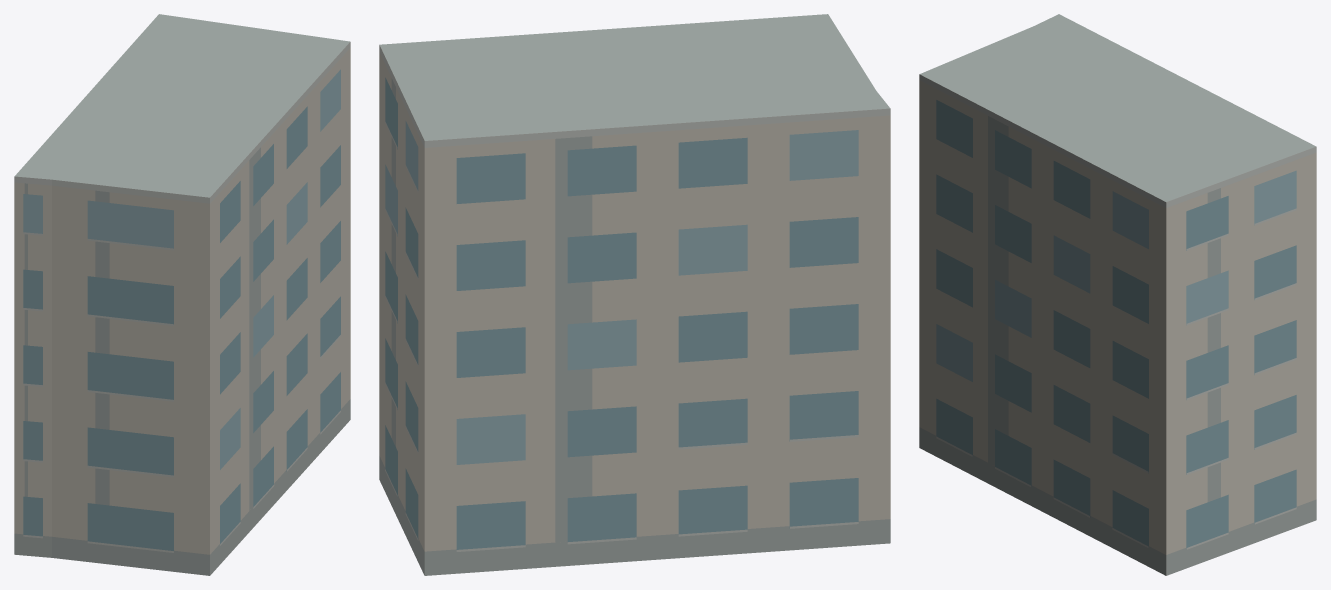
The model's file is survey-upis-33024930.glb.
3 renders of one model, left to right at view 1: azimuth 30°, elevation 25°; view 2: azimuth 150°, elevation 25°; view 3: azimuth 270°, elevation 25°, orthographic. The views are drawn at different scales.
Visible parts, largest first — view 1: survey-upis-33024930.tmp; view 2: survey-upis-33024930.tmp; view 3: survey-upis-33024930.tmp.
Part boxes in pixels (box(x1,y1,x2,y2)): survey-upis-33024930.tmp: box(14, 14, 350, 575); survey-upis-33024930.tmp: box(379, 14, 890, 575); survey-upis-33024930.tmp: box(919, 14, 1316, 575).
Bounding box in the file's own units: 16.48 × 15.25 × 14.69.
